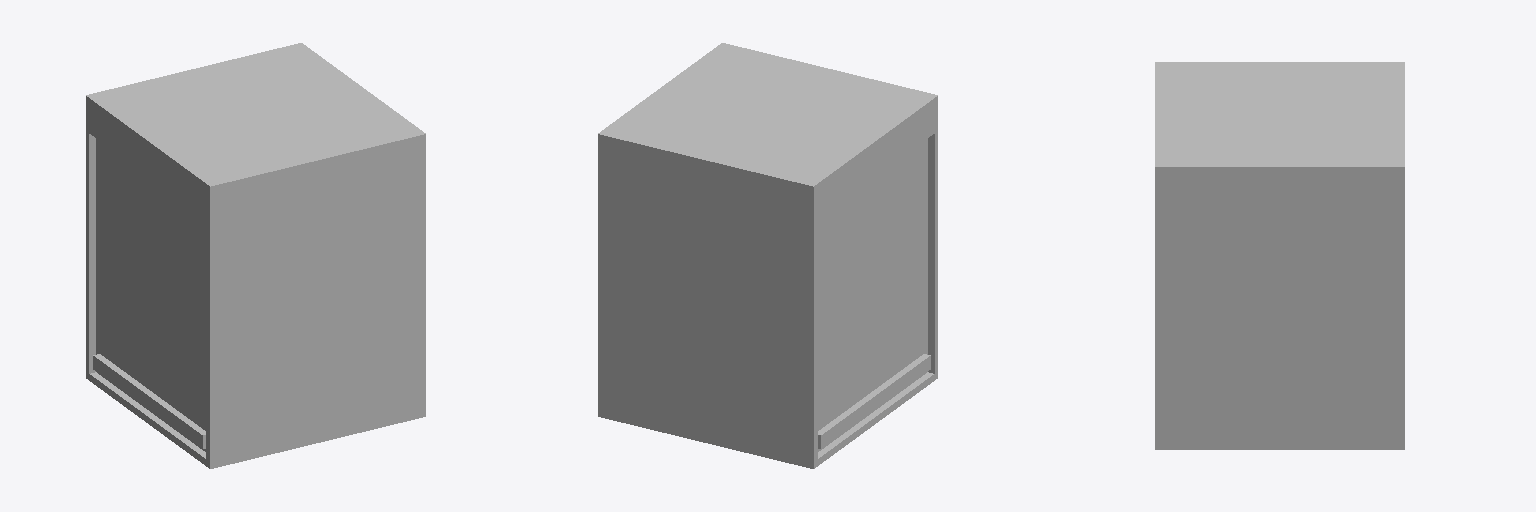
Rendered from network types-0-server.obj.
The picture shows the model from 3 angles: view 1: azimuth 30°, elevation 25°; view 2: azimuth 150°, elevation 25°; view 3: azimuth 270°, elevation 25°; orthographic projection.
Parts seen in each view (by area): view 1: server; view 2: server; view 3: server.
Part boxes in pixels (left/top/right/bottom): server: left=86, top=43, right=425, bottom=468; server: left=598, top=43, right=937, bottom=468; server: left=1155, top=62, right=1404, bottom=449.
Bounding box in the file's own units: 3.2 × 4 × 3.2.